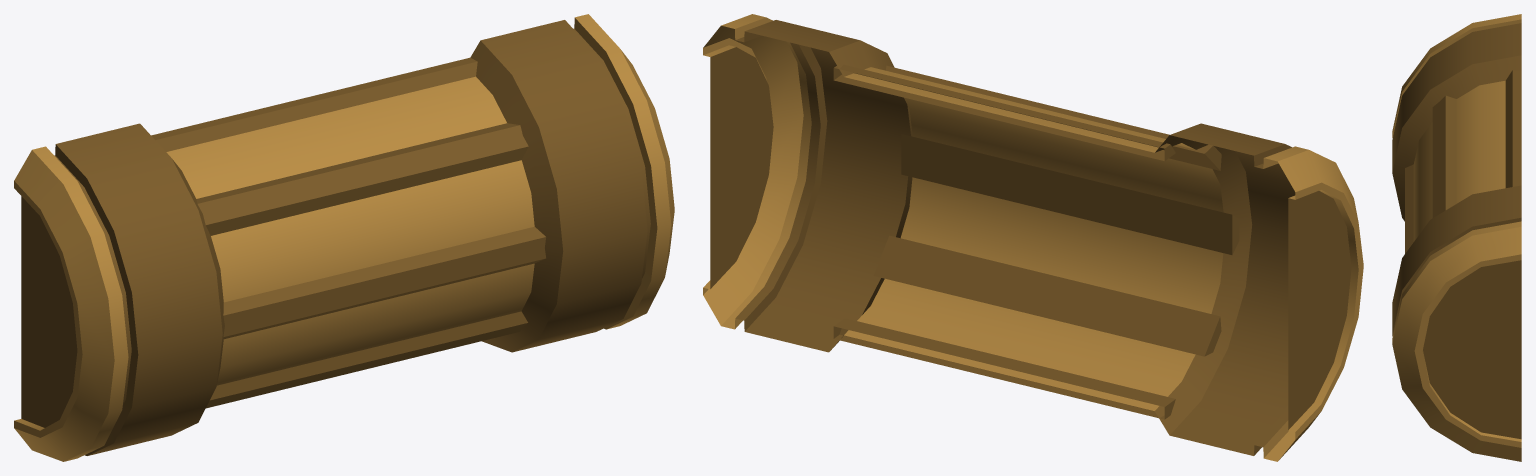
File: Details_Cylinder_Long.glb
3 views of the same model, side by side, from view 1: azimuth 30°, elevation 25°; view 2: azimuth 150°, elevation 25°; view 3: azimuth 270°, elevation 25° (orthographic). The views are drawn at different scales.
Parts seen in each view (by area): view 1: Details_Cylinder_Long; view 2: Details_Cylinder_Long; view 3: Details_Cylinder_Long.
Boxes of the visible parts, left/top/right/bottom form: Details_Cylinder_Long: left=14, top=14, right=674, bottom=461; Details_Cylinder_Long: left=703, top=14, right=1363, bottom=461; Details_Cylinder_Long: left=1392, top=14, right=1521, bottom=461.
Size of the model in its own units: 0.2684 by 0.1301 by 0.0649.
